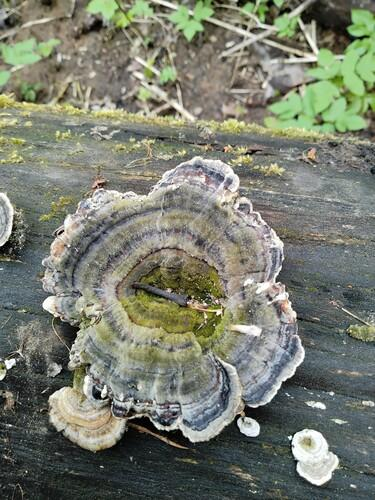poisonous_mushroom: (39, 155, 306, 452)
